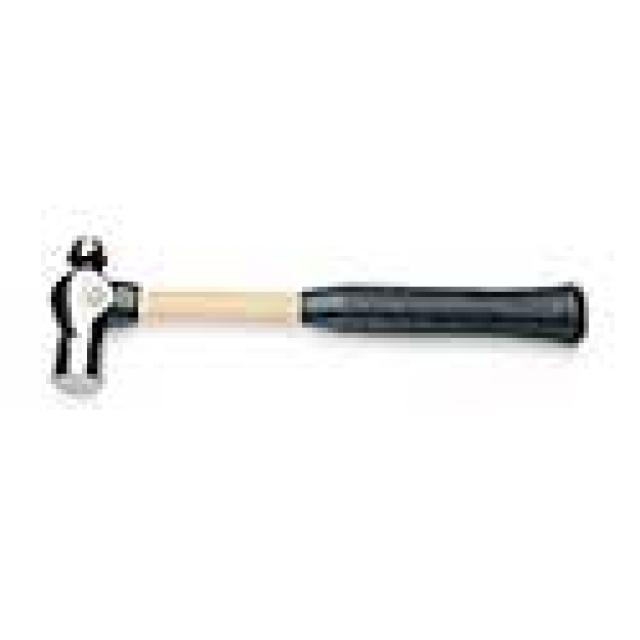hammer: (27, 201, 621, 423)
